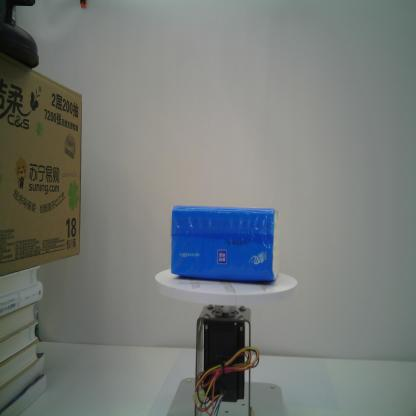Tissue: (169, 203, 282, 285)
